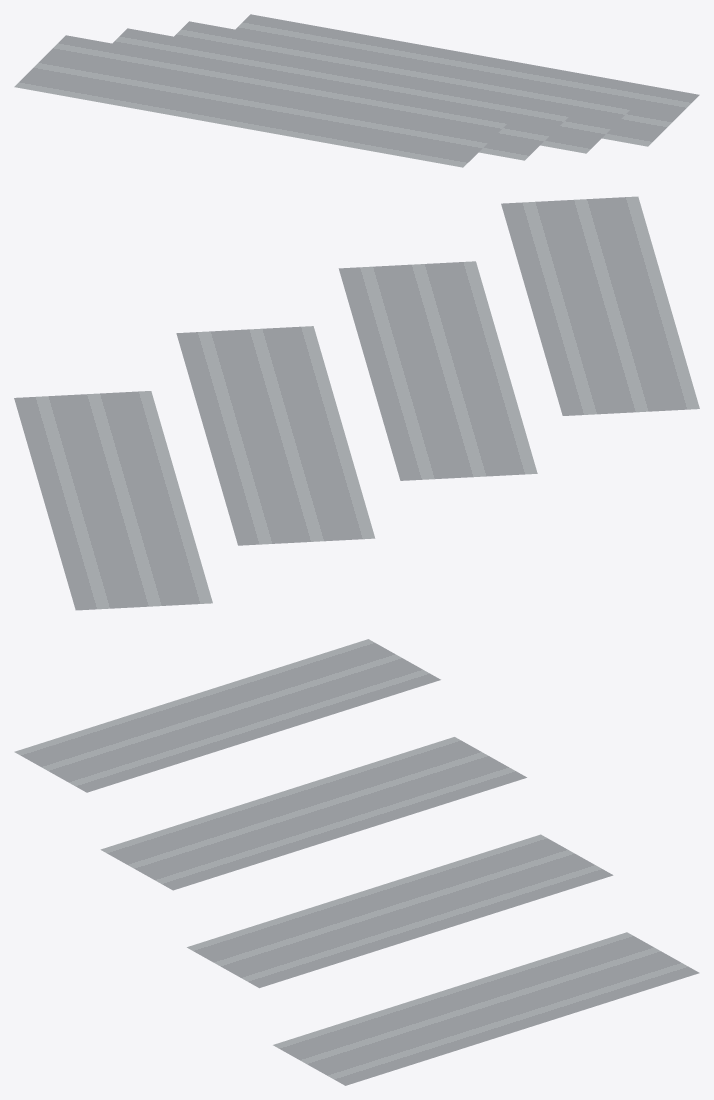
Rendered from kd_stage_135ebf_0_70_bounded.glb.
3 views of the same model, one above another, from view 1: azimuth 30°, elevation 25°; view 2: azimuth 150°, elevation 25°; view 3: azimuth 270°, elevation 25° (orthographic). The views are drawn at different scales.
Visible parts, largest first — view 1: kd_stage_135ebf_0_70_bounded; view 2: kd_stage_135ebf_0_70_bounded; view 3: kd_stage_135ebf_0_70_bounded.
Boxes of the visible parts, x1,y1,x2,y2 form: kd_stage_135ebf_0_70_bounded: [14, 14, 699, 167]; kd_stage_135ebf_0_70_bounded: [14, 196, 699, 610]; kd_stage_135ebf_0_70_bounded: [14, 639, 699, 1085].
Size of the model in its own units: 0.5711 by 0.132 by 0.5541.
Materials: 1 (1 with a texture image).
